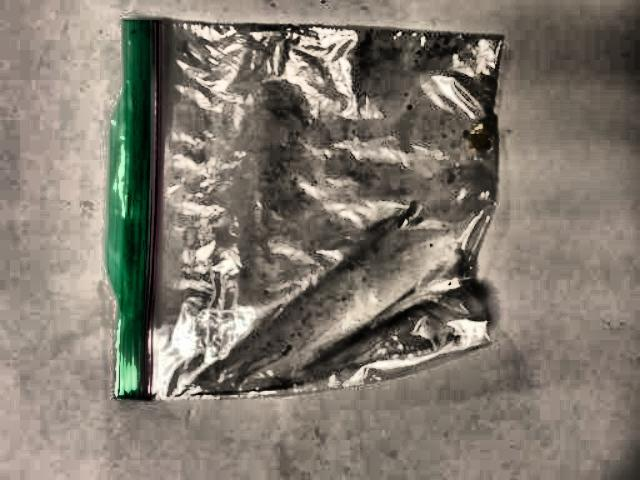Plastic: (34, 11, 640, 471)
